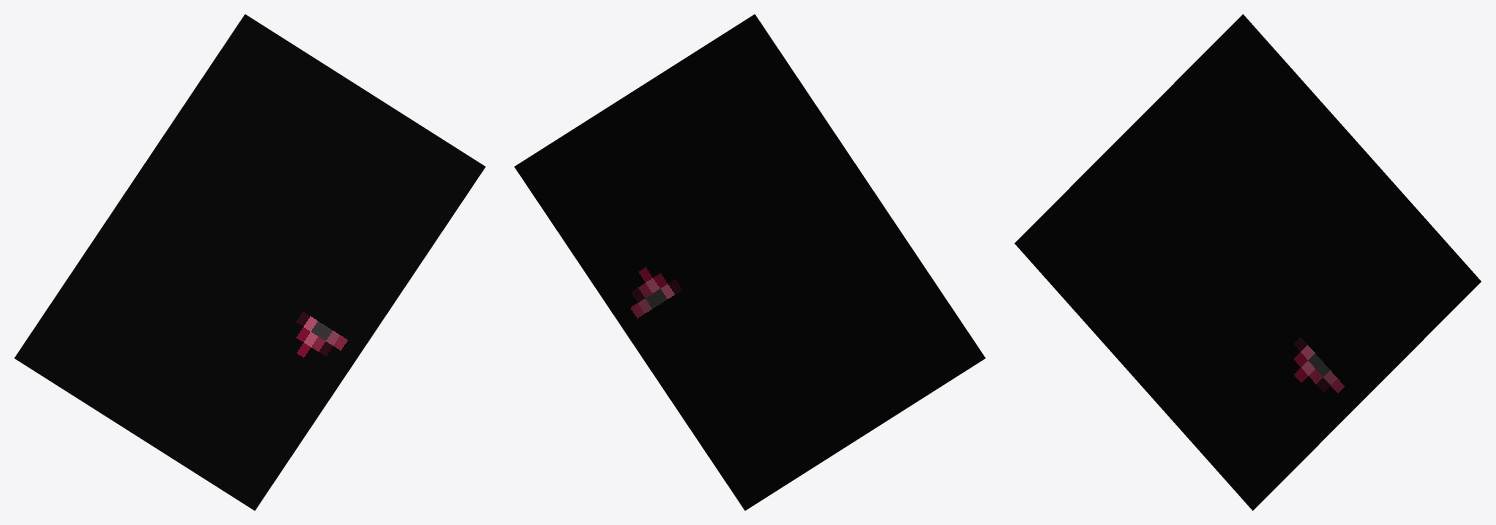
The model's file is fallengodspear.gltf.
3 renders of one model, left to right at view 1: azimuth 30°, elevation 25°; view 2: azimuth 150°, elevation 25°; view 3: azimuth 330°, elevation 25°, orthographic.
Visible parts, largest first — view 1: cube; view 2: cube; view 3: cube.
Part boxes in pixels (bbox=[...]): cube: bbox=[14, 14, 485, 510]; cube: bbox=[514, 14, 985, 510]; cube: bbox=[1014, 14, 1481, 510].
Size of the model in its own units: 0.6565 by 0.6642 by 6.25e-05.
1 material, 1 textured.
